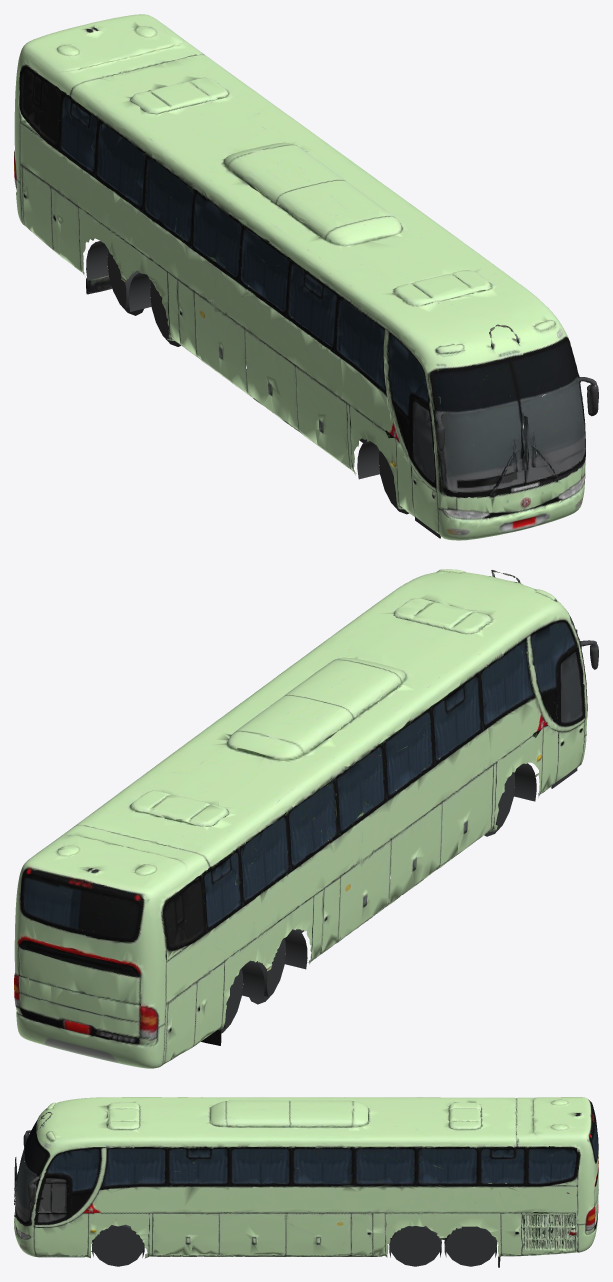
Rendered from rodoviario_03.glb.
The picture shows the model from 3 angles, top to bottom: view 1: azimuth 30°, elevation 25°; view 2: azimuth 150°, elevation 25°; view 3: azimuth 270°, elevation 25°; orthographic projection. The views are drawn at different scales.
Parts seen in each view (by area): view 1: carroceria, chassi, porta_frente; view 2: carroceria, chassi, porta_frente; view 3: carroceria, chassi, carroceria_dentro.
Part boxes in pixels (<box>): carroceria: <box>14,14,598,540</box>; chassi: <box>86,227,440,538</box>; porta_frente: <box>408,375,443,533</box>; carroceria: <box>14,569,598,1068</box>; chassi: <box>221,629,577,1033</box>; porta_frente: <box>552,633,584,782</box>; carroceria: <box>14,1097,598,1267</box>; chassi: <box>68,1185,497,1266</box>; carroceria_dentro: <box>14,1102,593,1267</box>.
Bounding box in the file's own units: 3.11 × 3.89 × 14.5.
Materials: 2 (1 with a texture image).
